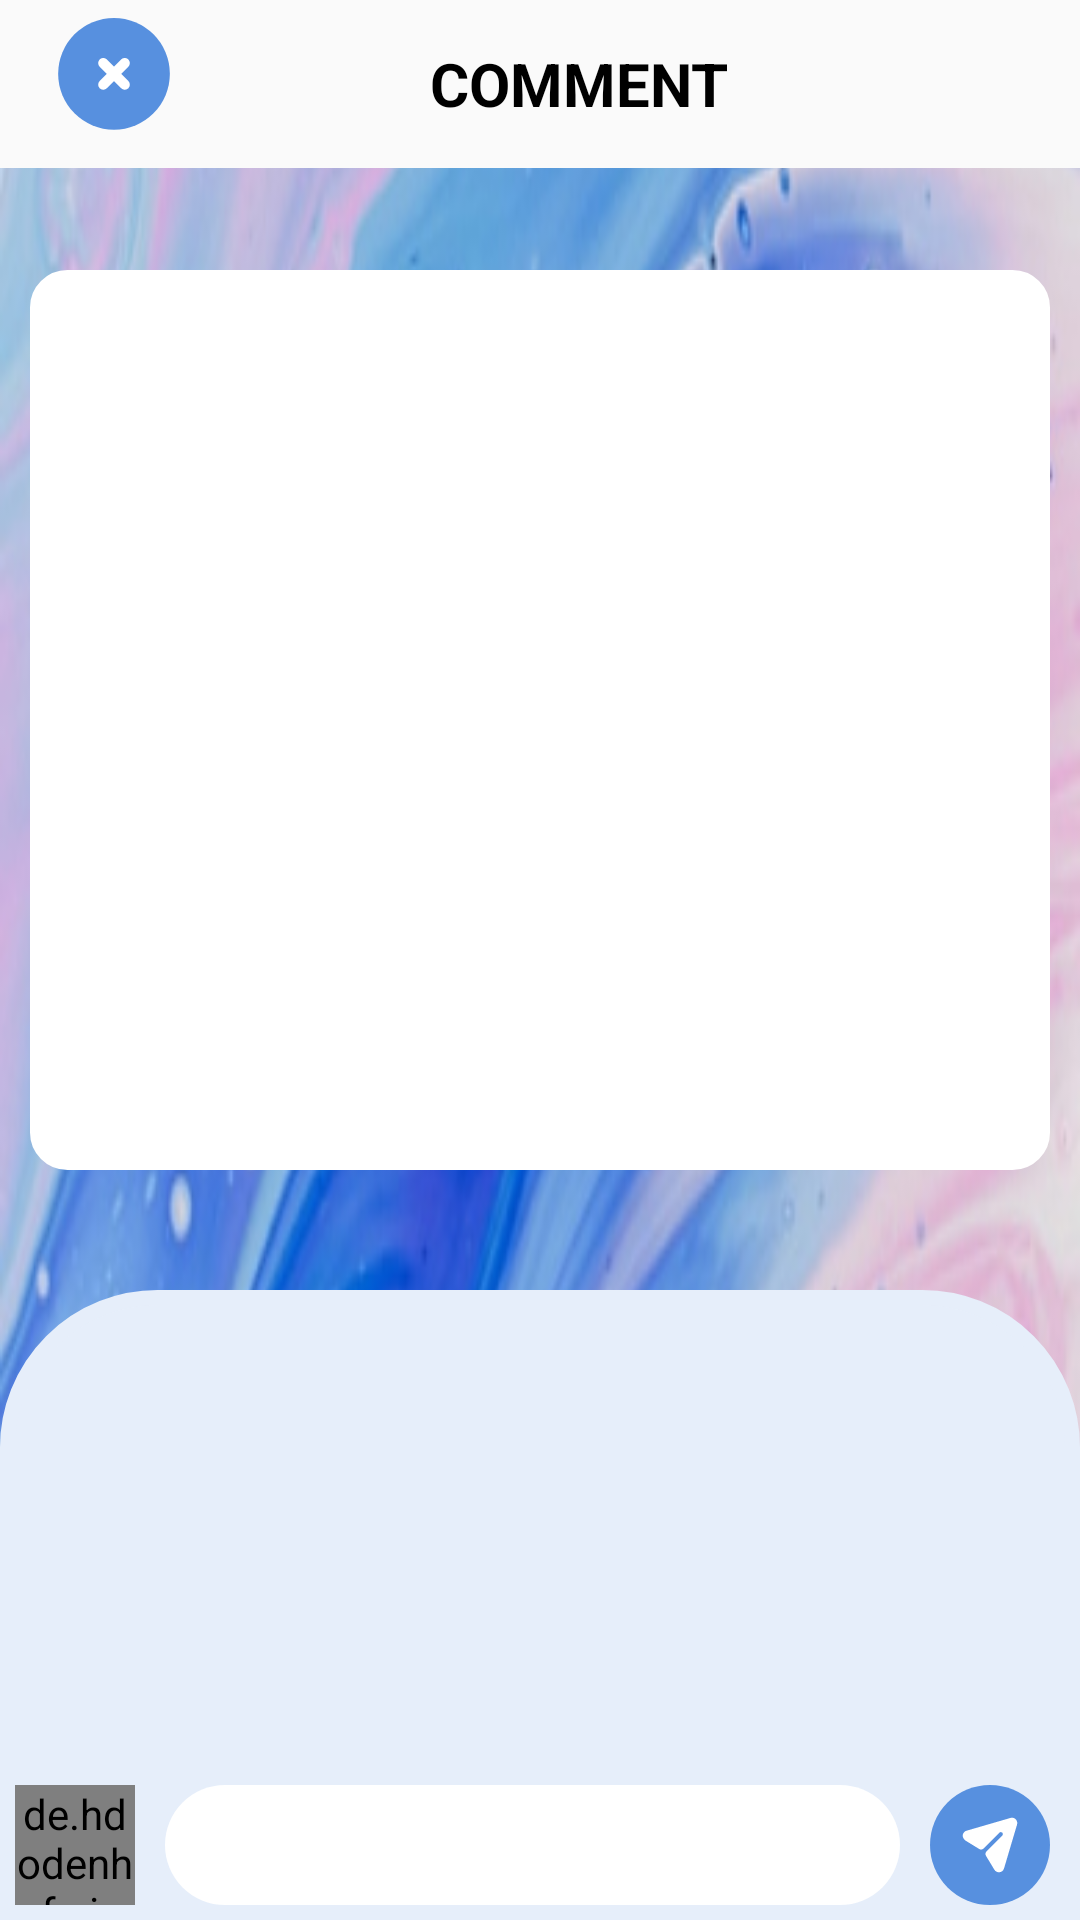

Named icons in this screenshot (1080*1920) and their centers, point (x, y):
exit: point (114, 74)
sent: point (990, 1845)
